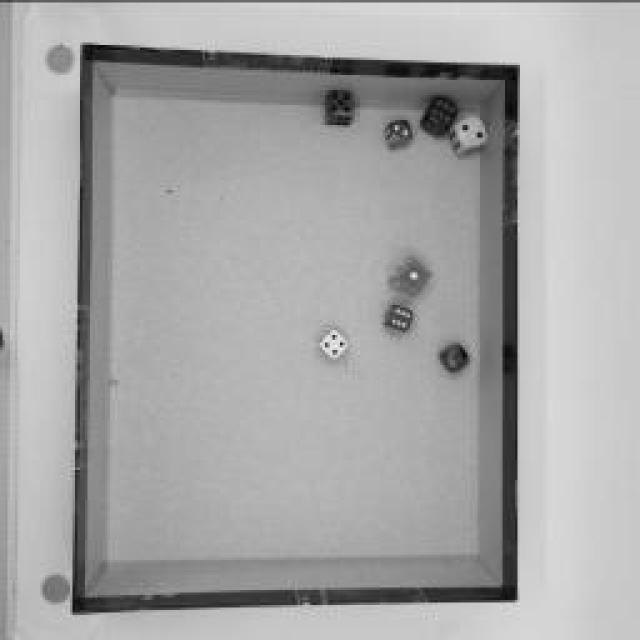dice_1: (389, 252, 431, 298), (435, 337, 470, 375)
dice_2: (450, 115, 485, 160), (381, 118, 414, 152)
dice_4: (316, 328, 349, 358)
dice_5: (323, 88, 355, 130)
dice_6: (420, 94, 455, 136), (381, 302, 414, 332)
